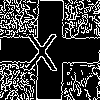X: (25, 25, 59, 71)
